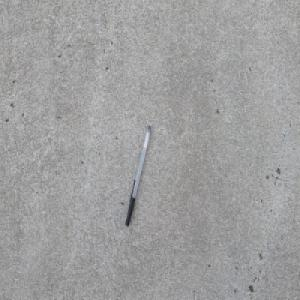Pen: (124, 124, 152, 227)
